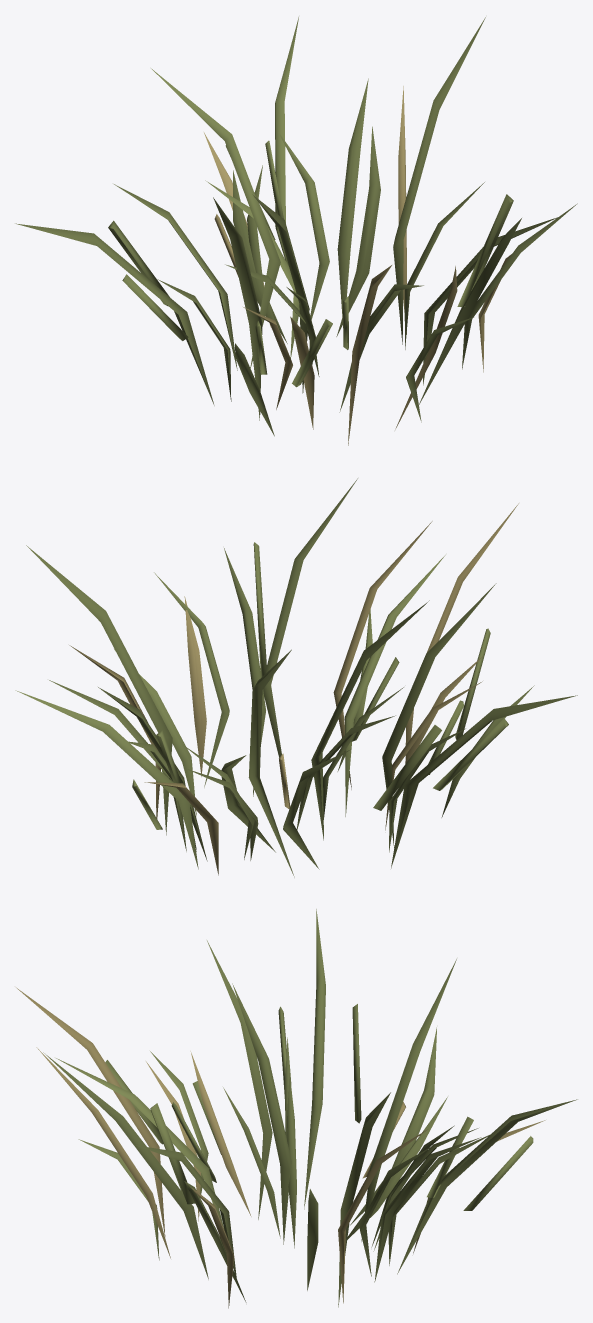
The model's file is Herbes_Incline_LOD1.fbx.
3 views of the same model, one above another, from view 1: azimuth 30°, elevation 25°; view 2: azimuth 150°, elevation 25°; view 3: azimuth 270°, elevation 25° (orthographic). The views are drawn at different scales.
Visible parts, largest first — view 1: Herbes_Incline_LOD1; view 2: Herbes_Incline_LOD1; view 3: Herbes_Incline_LOD1.
Part boxes in pixels (bbox=[...]): Herbes_Incline_LOD1: bbox=[15, 17, 577, 445]; Herbes_Incline_LOD1: bbox=[15, 478, 577, 877]; Herbes_Incline_LOD1: bbox=[16, 909, 577, 1308].
Bounding box in the file's own units: 88.83 × 47.1 × 89.81.
